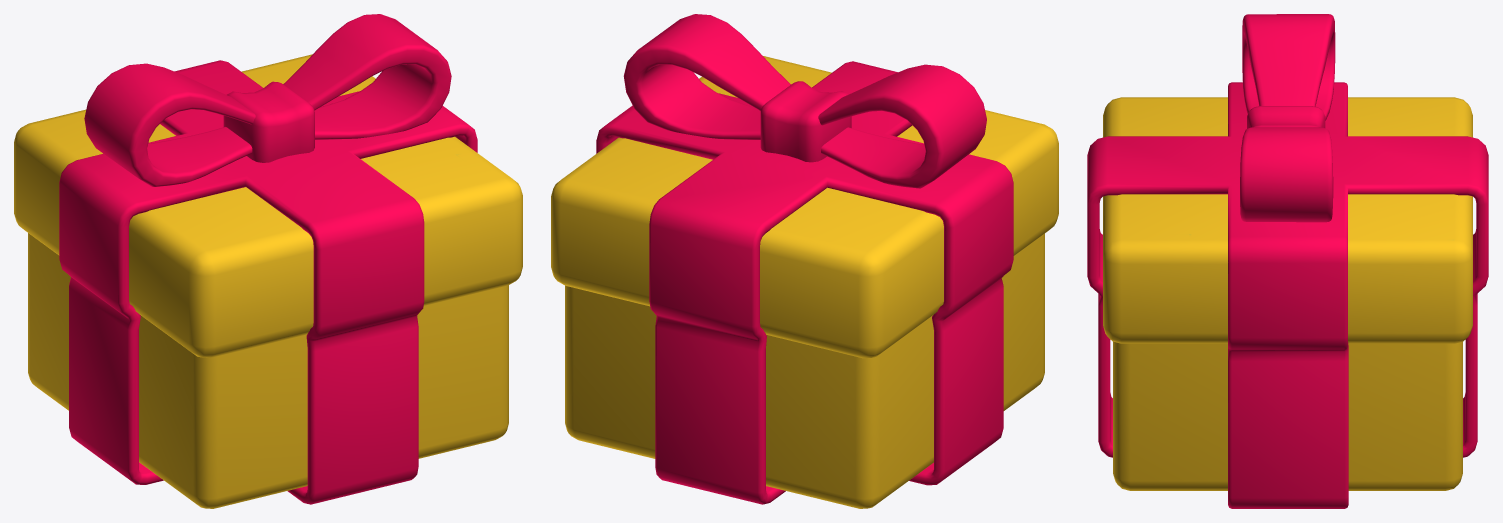
3 renders of one model, left to right at view 1: azimuth 30°, elevation 25°; view 2: azimuth 150°, elevation 25°; view 3: azimuth 270°, elevation 25°, orthographic. The views are drawn at different scales.
Parts seen in each view (by area): view 1: gift; view 2: gift; view 3: gift.
Boxes of the visible parts, x1=… form: gift: x1=14, y1=14, x2=522, y2=508; gift: x1=551, y1=14, x2=1058, y2=508; gift: x1=1087, y1=14, x2=1488, y2=508.
Size of the model in its own units: 2.29 by 2.28 by 2.29.
Materials: 1 (1 with a texture image).
